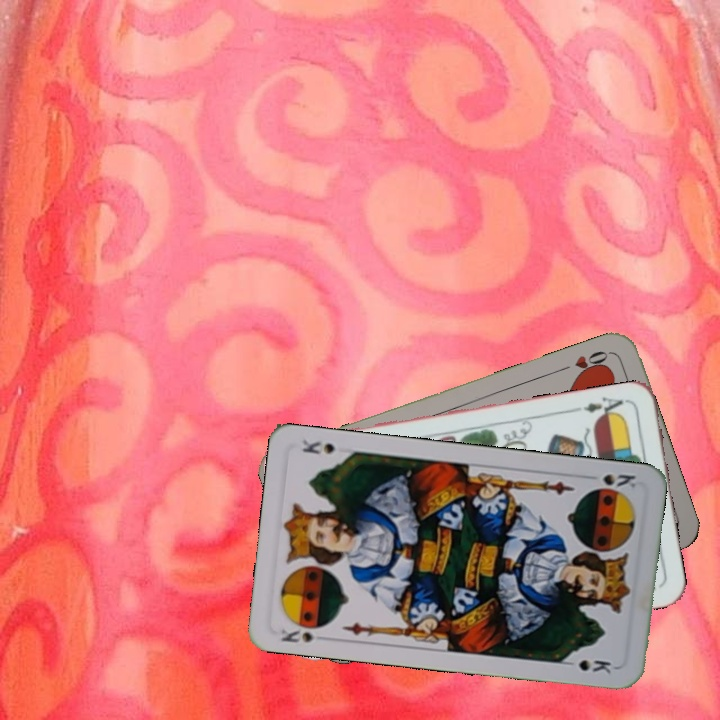EA: (572, 392, 631, 421)
HO: (555, 346, 612, 380)
SK: (277, 618, 332, 645), (599, 470, 641, 491)
